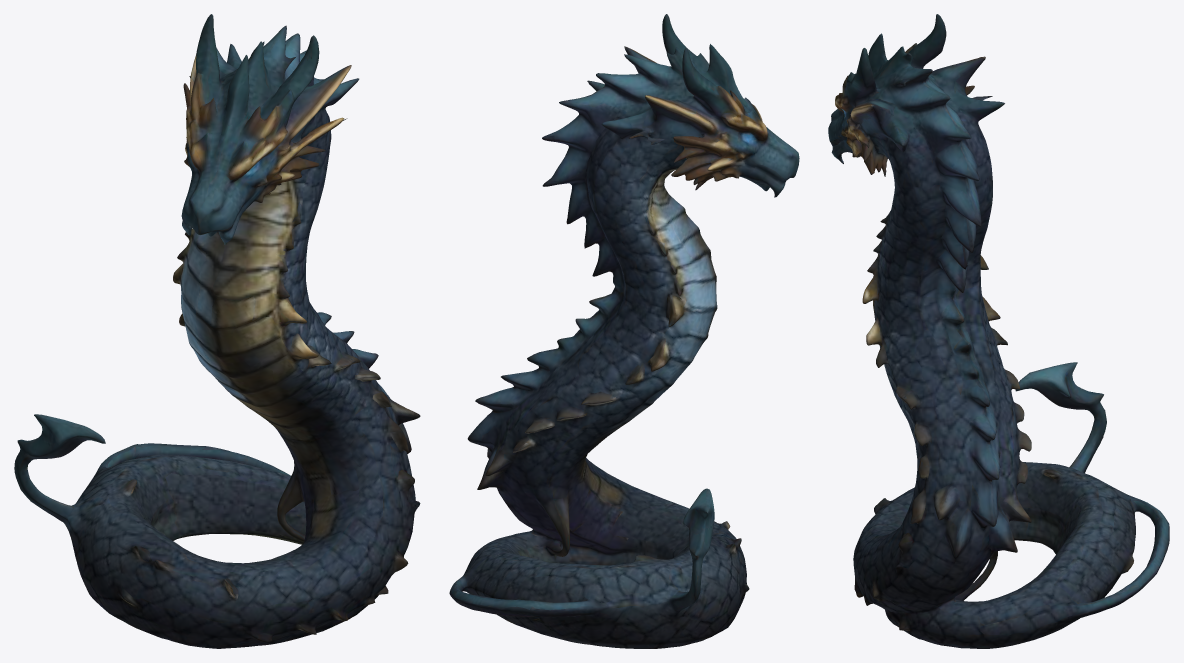
File: barnacle_leviathan.glb
3 renders of one model, left to right at view 1: azimuth 30°, elevation 25°; view 2: azimuth 150°, elevation 25°; view 3: azimuth 270°, elevation 25°, orthographic. The views are drawn at different scales.
Bounding box in the file's own units: 0.4481 × 0.8462 × 0.4628.
Materials: 1 (1 with a texture image).
